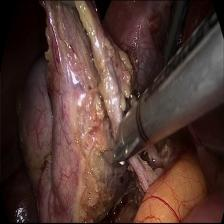Clipper: (87, 87, 158, 165)
Grasper: (152, 2, 192, 70)
